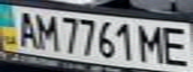1: (112, 20, 136, 61)
6: (93, 19, 118, 60)
7: (57, 14, 81, 53), (75, 16, 96, 56)
A: (12, 8, 42, 48)
E: (157, 24, 193, 67)
M: (136, 22, 169, 64), (30, 10, 60, 52)
